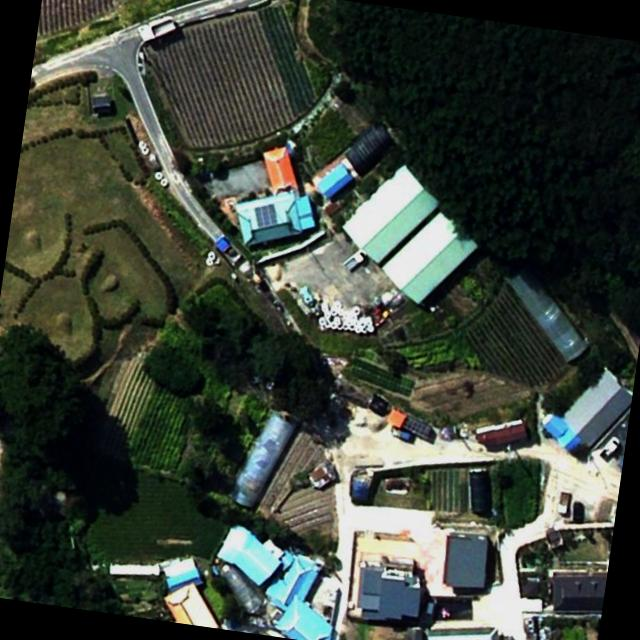solar: (250, 201, 280, 230)
